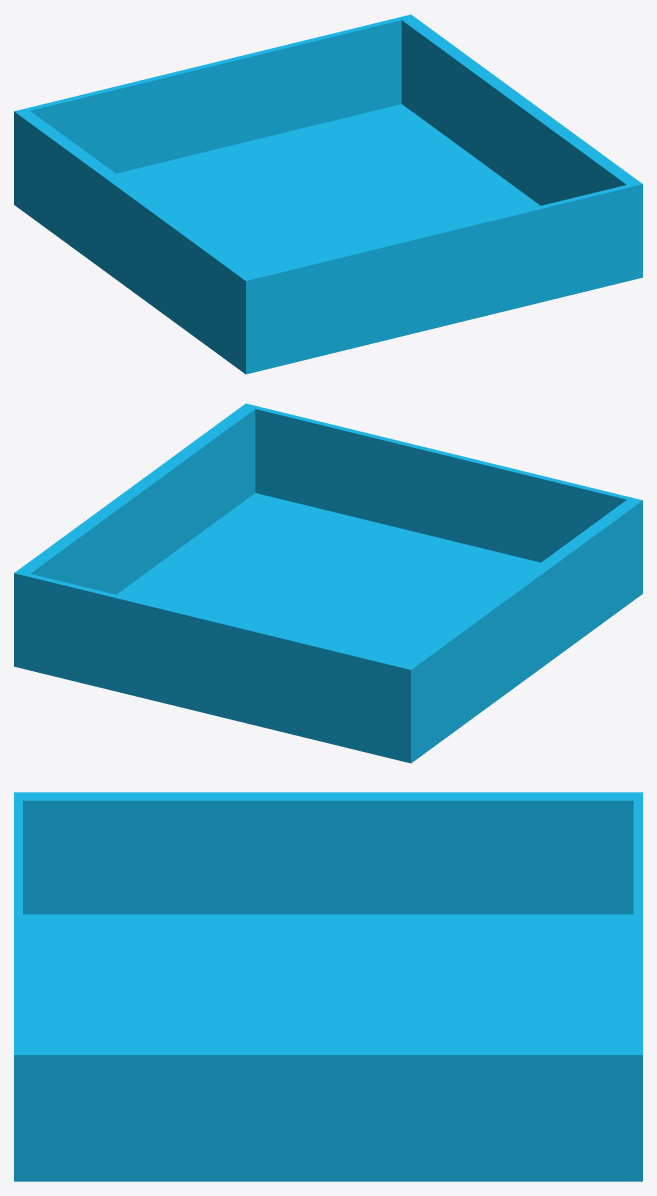
The model's file is water_tank.gltf.
3 renders of one model, top to bottom at view 1: azimuth 30°, elevation 25°; view 2: azimuth 150°, elevation 25°; view 3: azimuth 270°, elevation 25°, orthographic. The views are drawn at different scales.
Visible parts, largest first — view 1: Cube; view 2: Cube; view 3: Cube.
Part boxes in pixels (bbox=[...]): Cube: bbox=[14, 14, 642, 374]; Cube: bbox=[14, 403, 642, 763]; Cube: bbox=[14, 792, 642, 1181].
Bounding box in the file's own units: 11.84 × 2.66 × 11.98.
